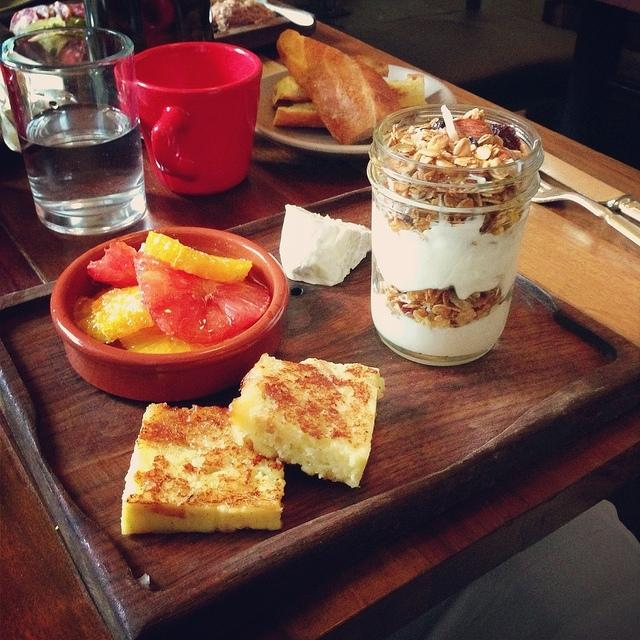orange: (137, 231, 252, 284), (74, 282, 158, 344), (118, 332, 206, 354)
